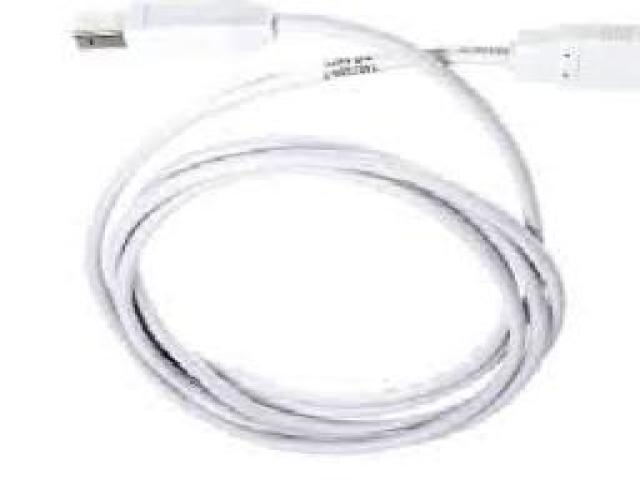wire: (68, 1, 640, 464)
